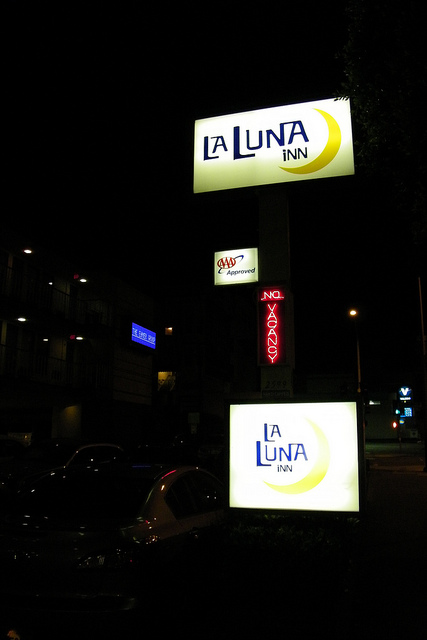car: (10, 456, 258, 607)
